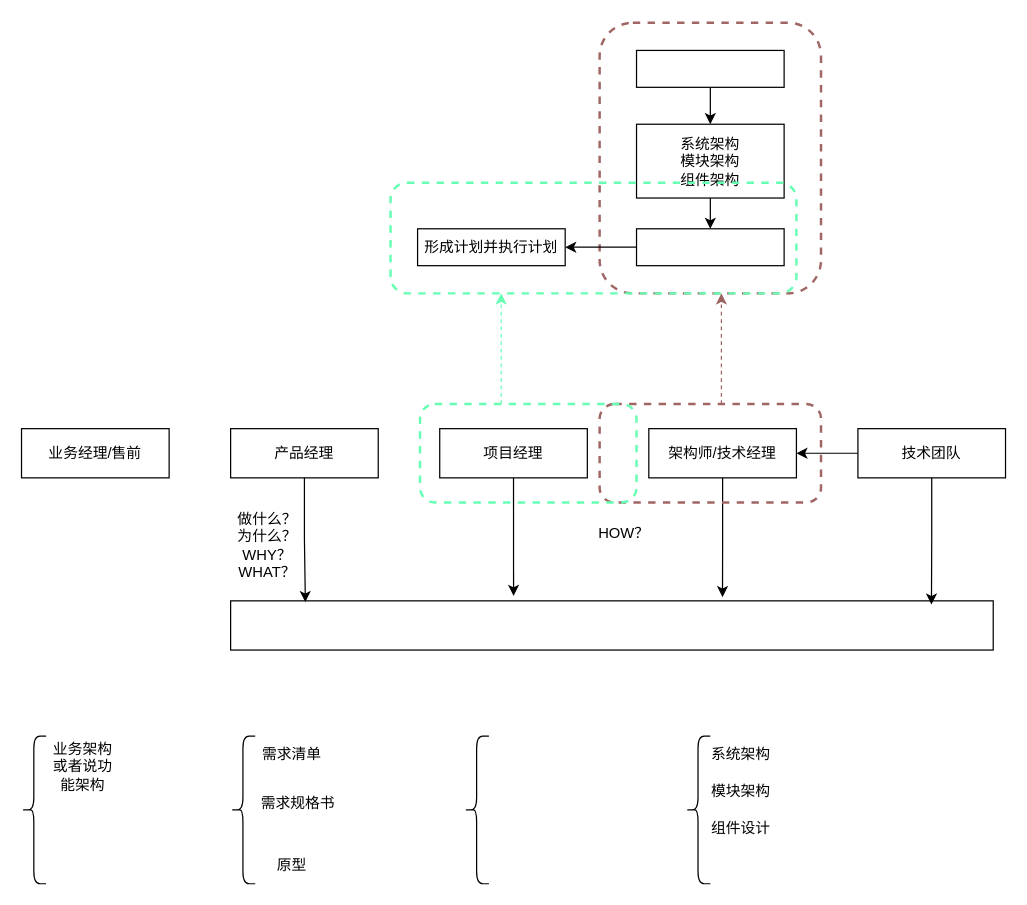
Some shapes in this 1027 by 905 pixel diagram are drawn without their labels. Here are the shapes that lost their labels. From the top down, the centre of each, then its label:
At pixel 709 68: "来自产品经理的需求资料".
At pixel 709 247: "开发排期".
At pixel 611 625: "产品".
